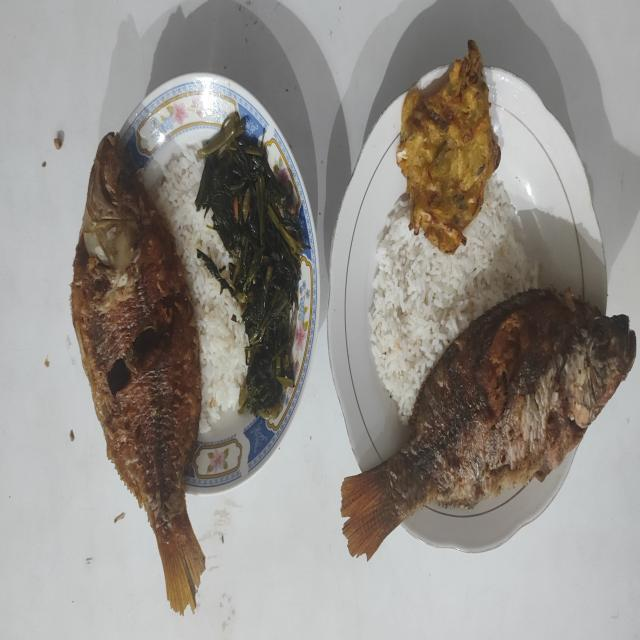ikan_mujair: (341, 290, 636, 558), (71, 134, 205, 614)
nasi_putih: (370, 179, 538, 420), (156, 146, 248, 431)
tumis_kangkung: (195, 114, 307, 414)
